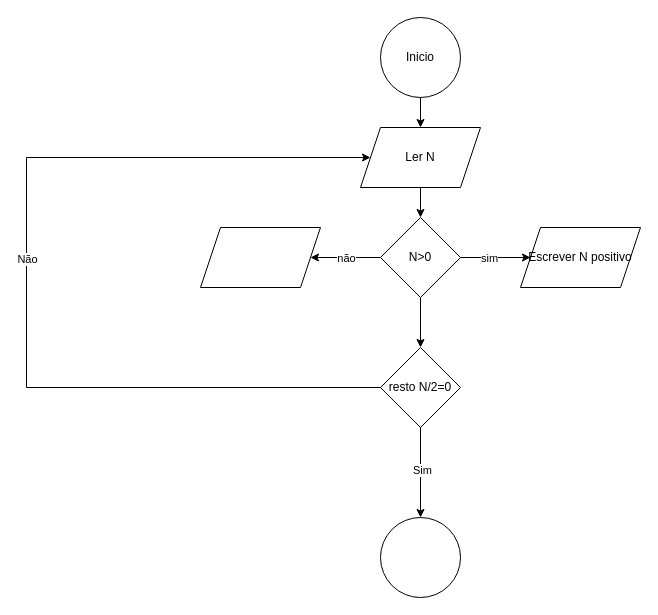
Image size: 658x615. Some labels were removed from this diagram. Each missing label, with the centre of its shape:
"Escrever N negativo" goes at (x=260, y=257).
"Fim" goes at (x=420, y=557).
